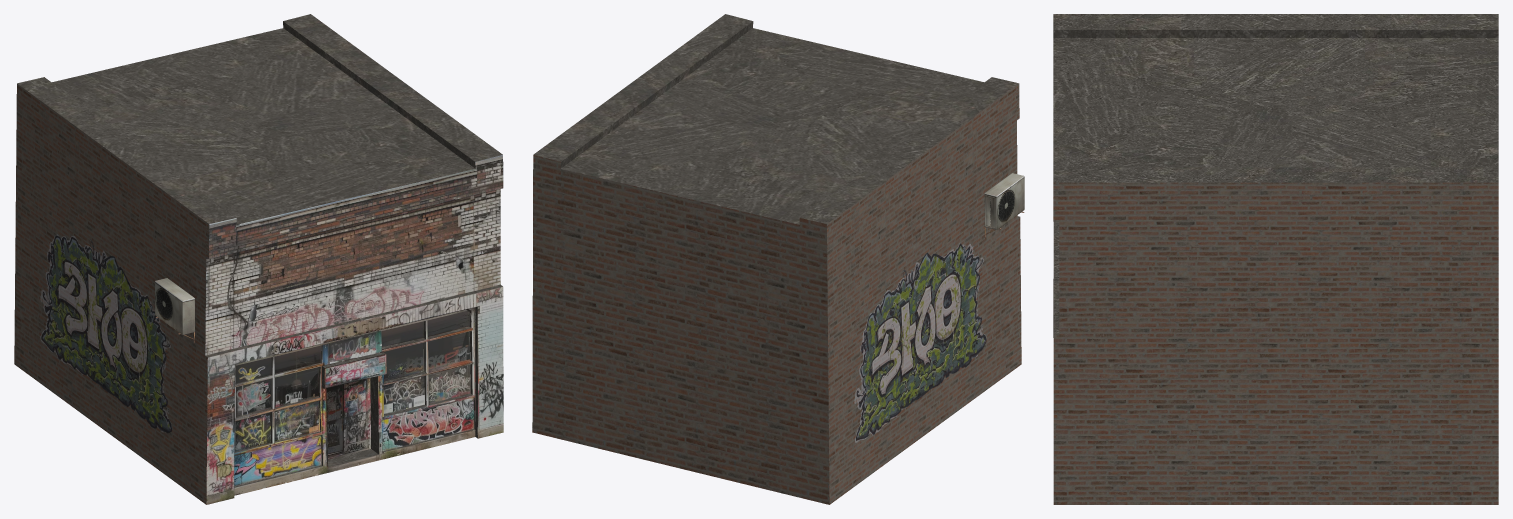
File: ghetto_hood_graffiti_detroit_building_1.glb
3 views of the same model, side by side, from view 1: azimuth 30°, elevation 25°; view 2: azimuth 150°, elevation 25°; view 3: azimuth 270°, elevation 25° (orthographic). The views are drawn at different scales.
Parts seen in each view (by area): view 1: Building4_Building1_0, Building4_Concrete_0, Building4_Brick_0, Building4_Graffiti_0, Building4_ACUnit_0; view 2: Building4_Brick_0, Building4_Concrete_0, Building4_Graffiti_0, Building4_ACUnit_0; view 3: Building4_Brick_0, Building4_Concrete_0.
Boxes of the visible parts, <box> form: Building4_Building1_0: <box>205,155,503,504</box>; Building4_Concrete_0: <box>17,14,502,502</box>; Building4_Brick_0: <box>14,83,503,504</box>; Building4_Graffiti_0: <box>40,234,171,432</box>; Building4_ACUnit_0: <box>155,278,194,334</box>; Building4_Brick_0: <box>532,83,1021,504</box>; Building4_Concrete_0: <box>533,14,1019,224</box>; Building4_Graffiti_0: <box>854,243,986,442</box>; Building4_ACUnit_0: <box>984,173,1024,229</box>; Building4_Brick_0: <box>1053,182,1498,504</box>; Building4_Concrete_0: <box>1053,14,1498,337</box>.
Bounding box in the file's own units: 8.59 × 7.37 × 9.16.
6 materials, 6 textured.
